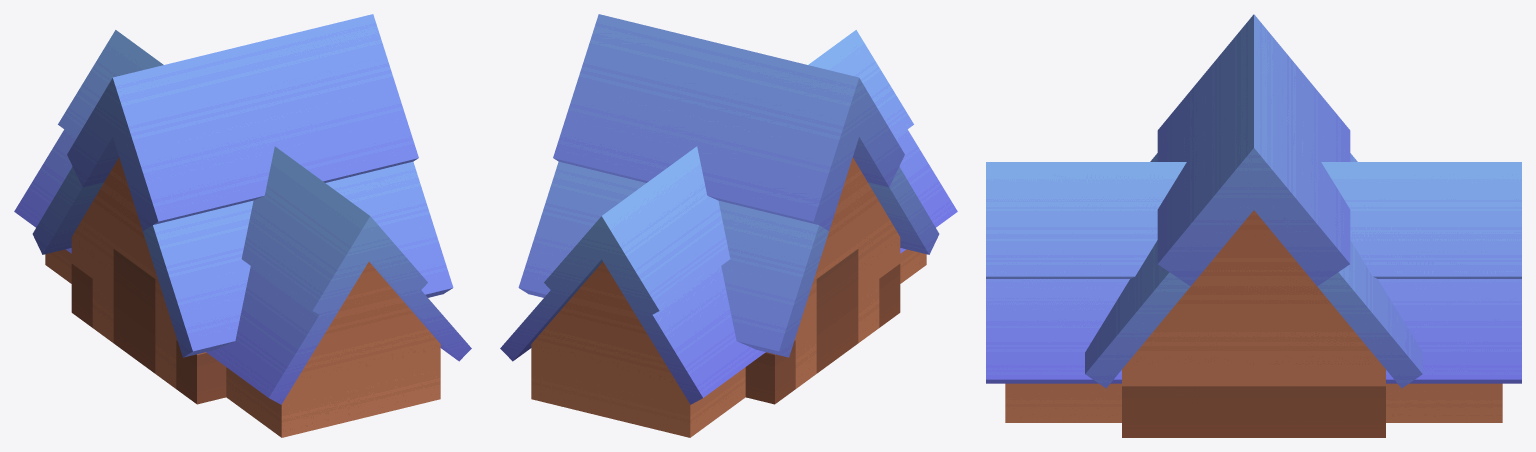
File: unit-mansion.004_lev2.glb
The picture shows the model from 3 angles, left to right: view 1: azimuth 30°, elevation 25°; view 2: azimuth 150°, elevation 25°; view 3: azimuth 270°, elevation 25°; orthographic projection. The views are drawn at different scales.
Visible parts, largest first — view 1: unit-mansion.004_lev2; view 2: unit-mansion.004_lev2; view 3: unit-mansion.004_lev2.
Part boxes in pixels (x1=…): unit-mansion.004_lev2: x1=14, y1=14, x2=471, y2=437; unit-mansion.004_lev2: x1=500, y1=14, x2=957, y2=437; unit-mansion.004_lev2: x1=986, y1=14, x2=1521, y2=437.
Size of the model in its own units: 3.6 by 3.78 by 6.09.
1 material, 1 textured.
